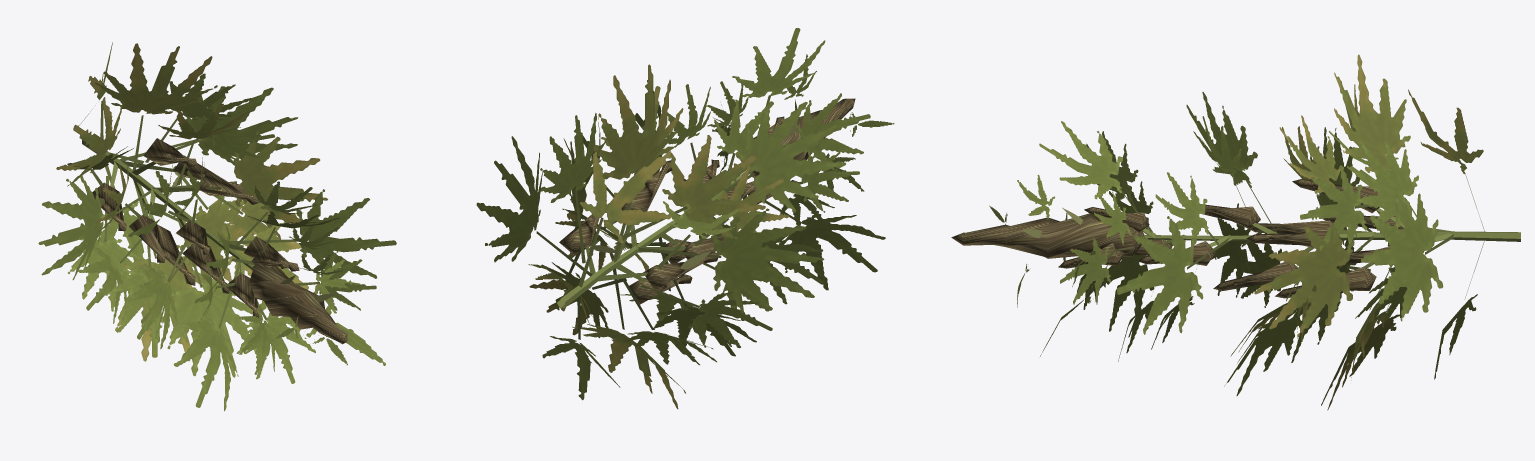
The model's file is p_dark_landrace_ripe_c1_cards.obj.
3 renders of one model, left to right at view 1: azimuth 30°, elevation 25°; view 2: azimuth 150°, elevation 25°; view 3: azimuth 270°, elevation 25°, orthographic. The views are drawn at different scales.
Bounding box in the file's own units: 1.57 × 1.65 × 2.13.
1 material, 1 textured.
